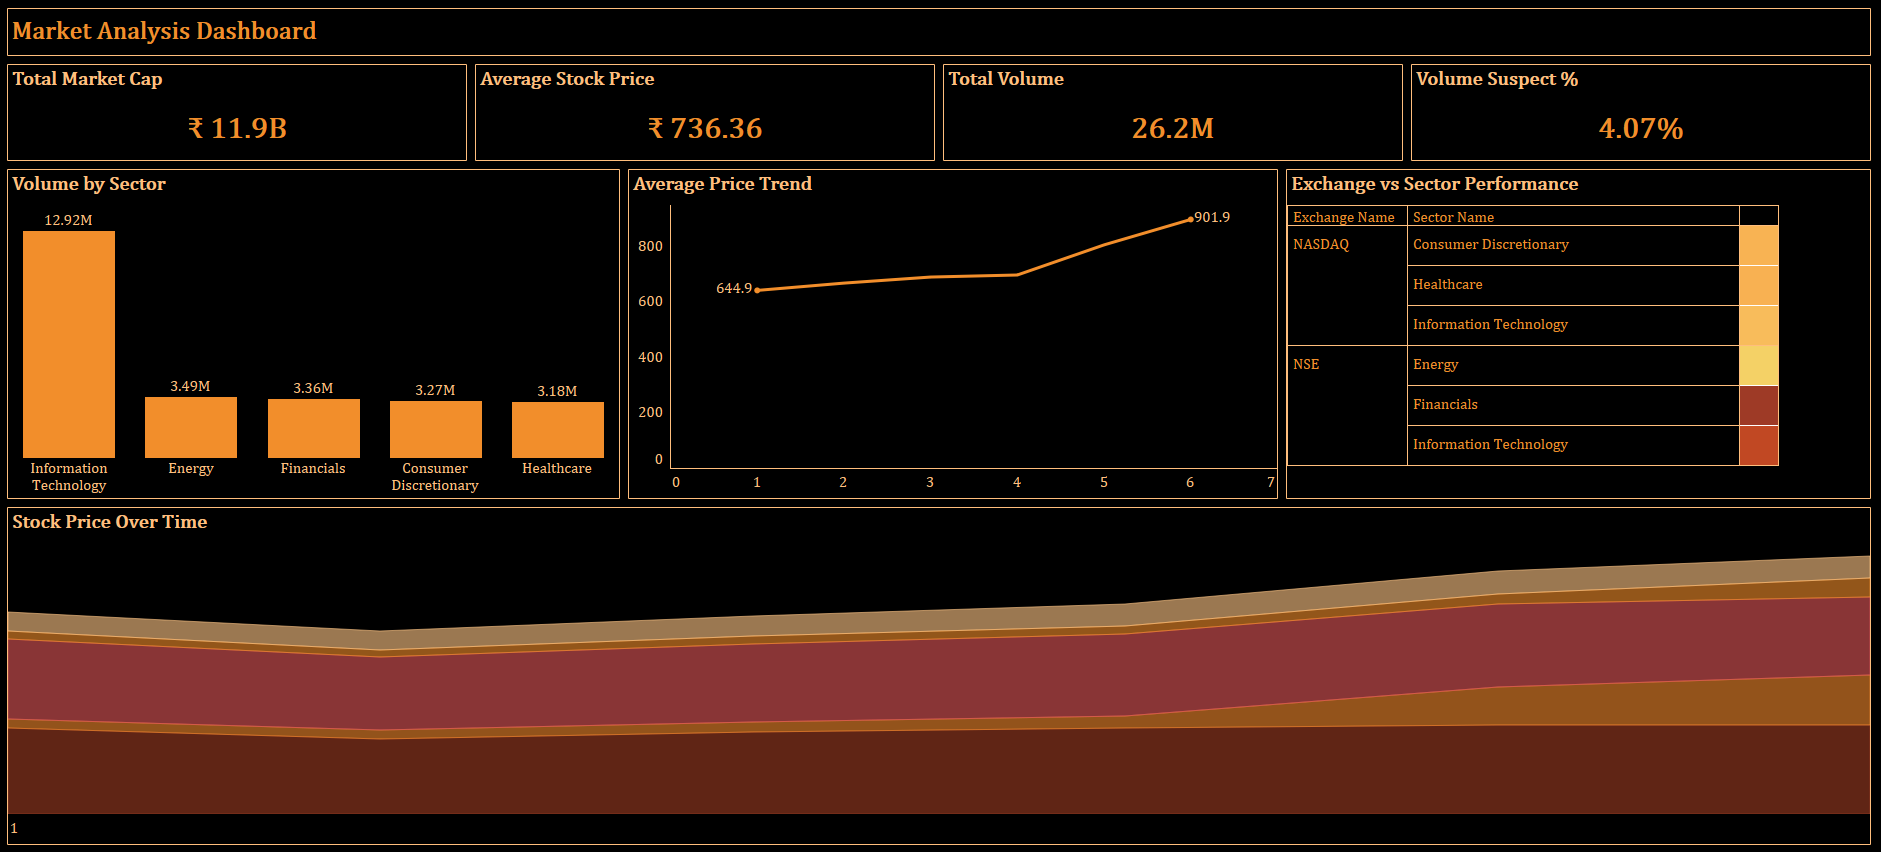

This screenshot's page, from the dashboard's own definition file:
{"tool":"tableau","page":{"name":"Dashboard 1","canvas":[1000,1000],"units":"permille","ordinal":0},"visuals":[{"type":"text","box":[4.2,9.3,991.5,65]},{"type":"worksheet","title":"Total Market Cap","mark":"Automatic","box":[4.2,74.3,247.9,122]},{"type":"worksheet","title":"Average Stock Price","mark":"Automatic","box":[252.1,74.3,247.9,122]},{"type":"worksheet","title":"Total Volume","mark":"Automatic","box":[500,74.3,247.9,122]},{"type":"worksheet","title":"Volume Suspect %","mark":"Automatic","box":[747.9,74.3,247.9,122]},{"type":"worksheet","title":"Volume by Sector","mark":"Automatic","rows":["volume"],"cols":["sector_name"],"box":[4.2,196.3,328.7,392.6]},{"type":"worksheet","title":"Average Price Trend","mark":"Automatic","rows":["adjusted_close"],"cols":["month"],"box":[332.9,196.3,348.6,392.6]},{"type":"worksheet","title":"Exchange vs Sector Performance","mark":"Square","rows":["exchange_name","sector_name"],"box":[681.6,196.3,314.2,392.6]},{"type":"worksheet","title":"Stock Price Over Time","mark":"Area","rows":["adjusted_close"],"cols":["month"],"box":[4.2,588.9,991.5,401.9]}]}

Visuals, with their boxes on the dashboard's canvas, which has no fixed pixel size, in thousandths of its width and height (x1, y1, x2, y2). These are canvas units, not pixel positions in the 1881x852 screenshot, which may show the page scaled, cropped or inside an application window:
text: [4,9,996,74]
"Total Market Cap" worksheet: [4,74,252,196]
"Average Stock Price" worksheet: [252,74,500,196]
"Total Volume" worksheet: [500,74,748,196]
"Volume Suspect %" worksheet: [748,74,996,196]
"Volume by Sector" worksheet: [4,196,333,589]
"Average Price Trend" worksheet: [333,196,682,589]
"Exchange vs Sector Performance" worksheet (Square marks): [682,196,996,589]
"Stock Price Over Time" worksheet (Area marks): [4,589,996,991]
